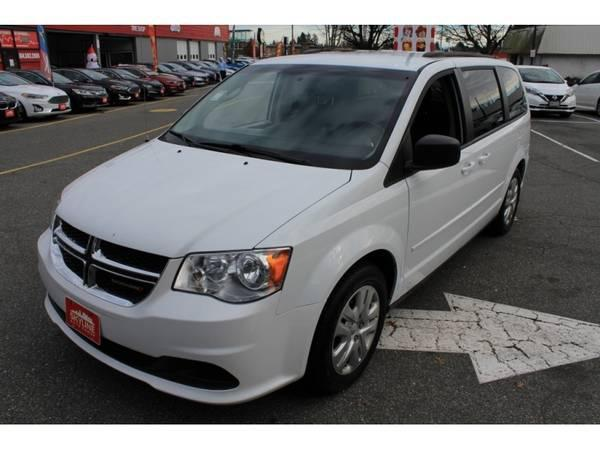Front_Bumper: (38, 230, 324, 398)
Front_Fender: (251, 156, 407, 306)
Front_Left_Door: (400, 146, 469, 296)
Front_Left_Window: (394, 66, 470, 177)
Front_Windshield: (159, 64, 415, 172)
Grille: (50, 211, 170, 304)
Hood: (54, 139, 353, 257)
Left_Headlight: (171, 245, 290, 309)
Rear_Fender: (499, 63, 530, 171)
Rear_Left_Door: (466, 131, 514, 241)
Rear_Left_Window: (457, 67, 510, 144)
Roof: (255, 47, 518, 177)
Wheel: (314, 270, 388, 391), (502, 175, 525, 228)
